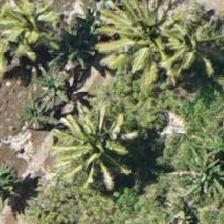coconut_tree: (54, 101, 144, 191), (102, 0, 192, 79), (144, 0, 223, 89), (0, 0, 76, 69)
